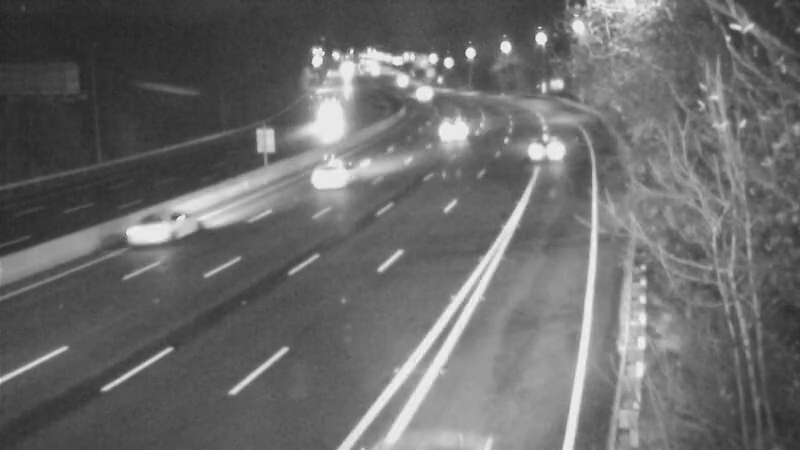vehicle: (285, 138, 365, 218), (116, 189, 196, 269), (398, 69, 448, 119), (424, 101, 474, 151), (510, 123, 560, 173), (297, 96, 347, 146)
